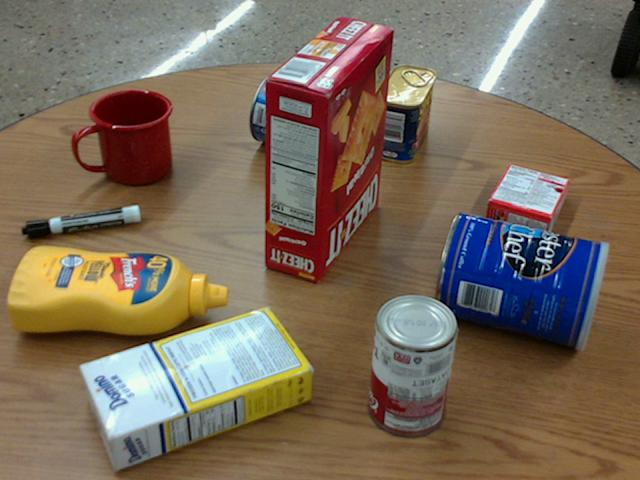cracker_box: (264, 15, 393, 280)
gelatin_box: (485, 162, 568, 234)
large_marker: (23, 204, 140, 238)
master_chef_can: (436, 209, 610, 348)
mug: (75, 90, 172, 186)
mustard_bottle: (8, 244, 228, 336)
potted_meat_can: (376, 64, 435, 163)
sugar_box: (76, 306, 310, 468)
tomato_soup_can: (370, 291, 458, 434)
tuna_fish_can: (249, 73, 306, 147)
